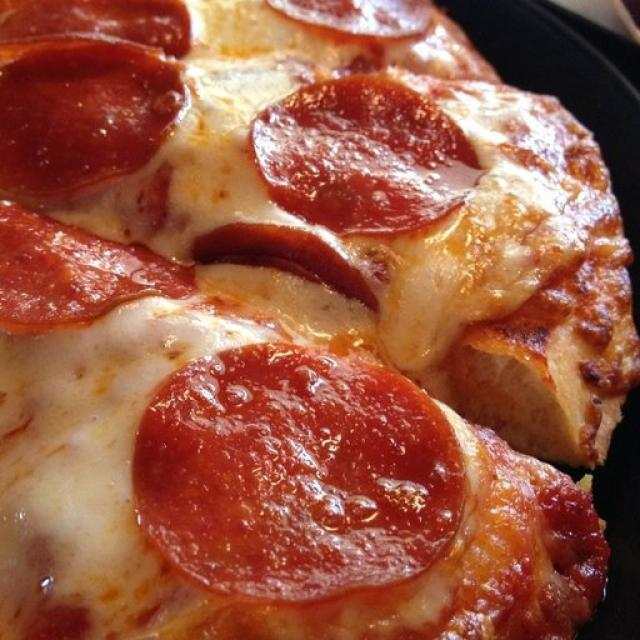Pepperoni: (136, 344, 464, 602), (2, 0, 186, 200), (254, 75, 478, 227), (0, 199, 191, 333), (190, 221, 373, 313), (271, 0, 435, 42)
